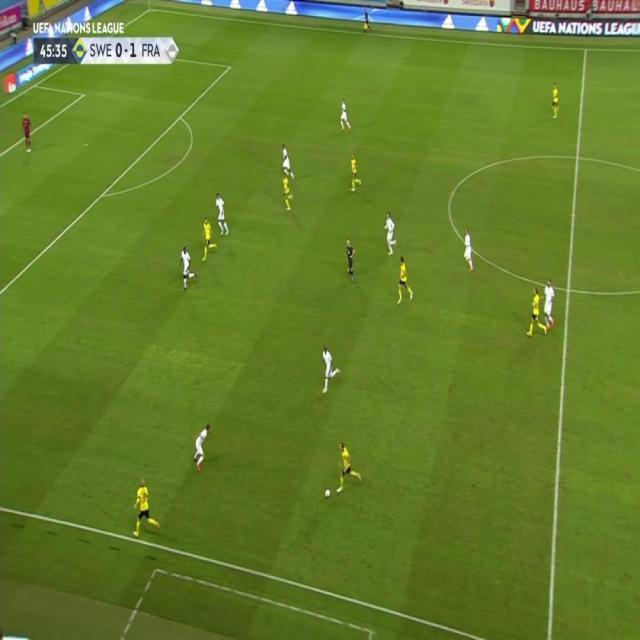ball: (324, 488, 331, 499)
goalkeeper: (21, 113, 33, 158)
player: (132, 477, 161, 543), (334, 439, 363, 495), (318, 345, 343, 394), (525, 288, 549, 336), (192, 423, 212, 474), (395, 256, 414, 307), (198, 216, 217, 262), (179, 247, 198, 293), (214, 193, 230, 237), (543, 278, 555, 330), (463, 228, 477, 272), (383, 212, 396, 257), (349, 155, 362, 196), (281, 174, 294, 213), (339, 98, 353, 134), (280, 142, 294, 177), (551, 82, 560, 121)
referee: (343, 239, 358, 285)
